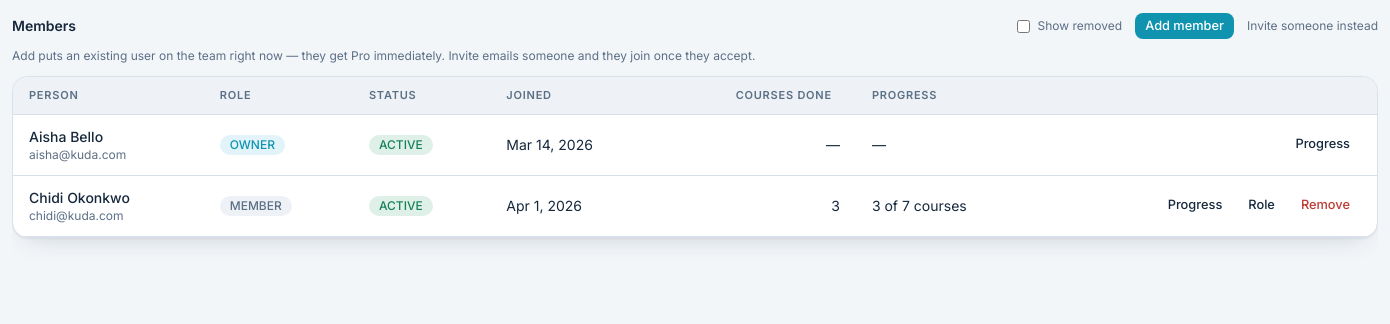
Test: MembersTab › hides removed members until the toggle is checked
This screenshot has width=1390, height=324.
Expected: the text "Femi Adigun" is not shown
Click the checkbox labelled "Show removed". click: (1023,26)
box: [1016,20,1030,32]
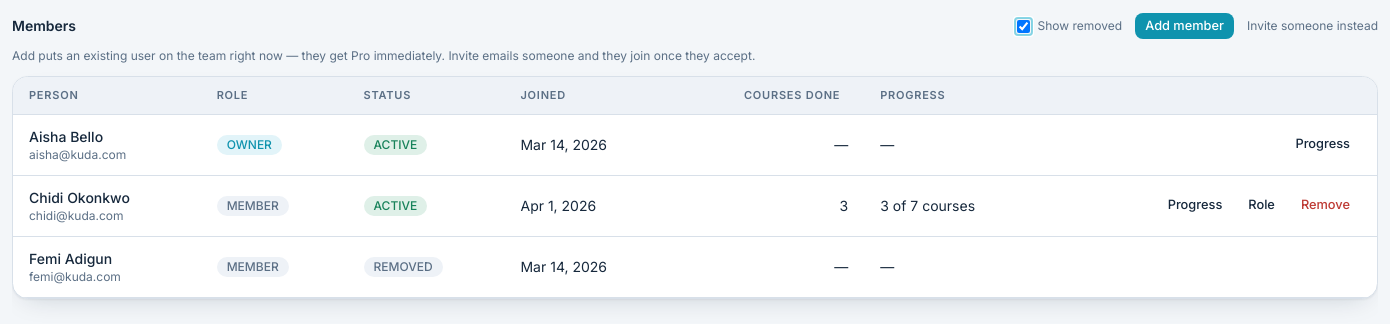
Now the text "Femi Adigun" is shown, box [29,250,112,266]
